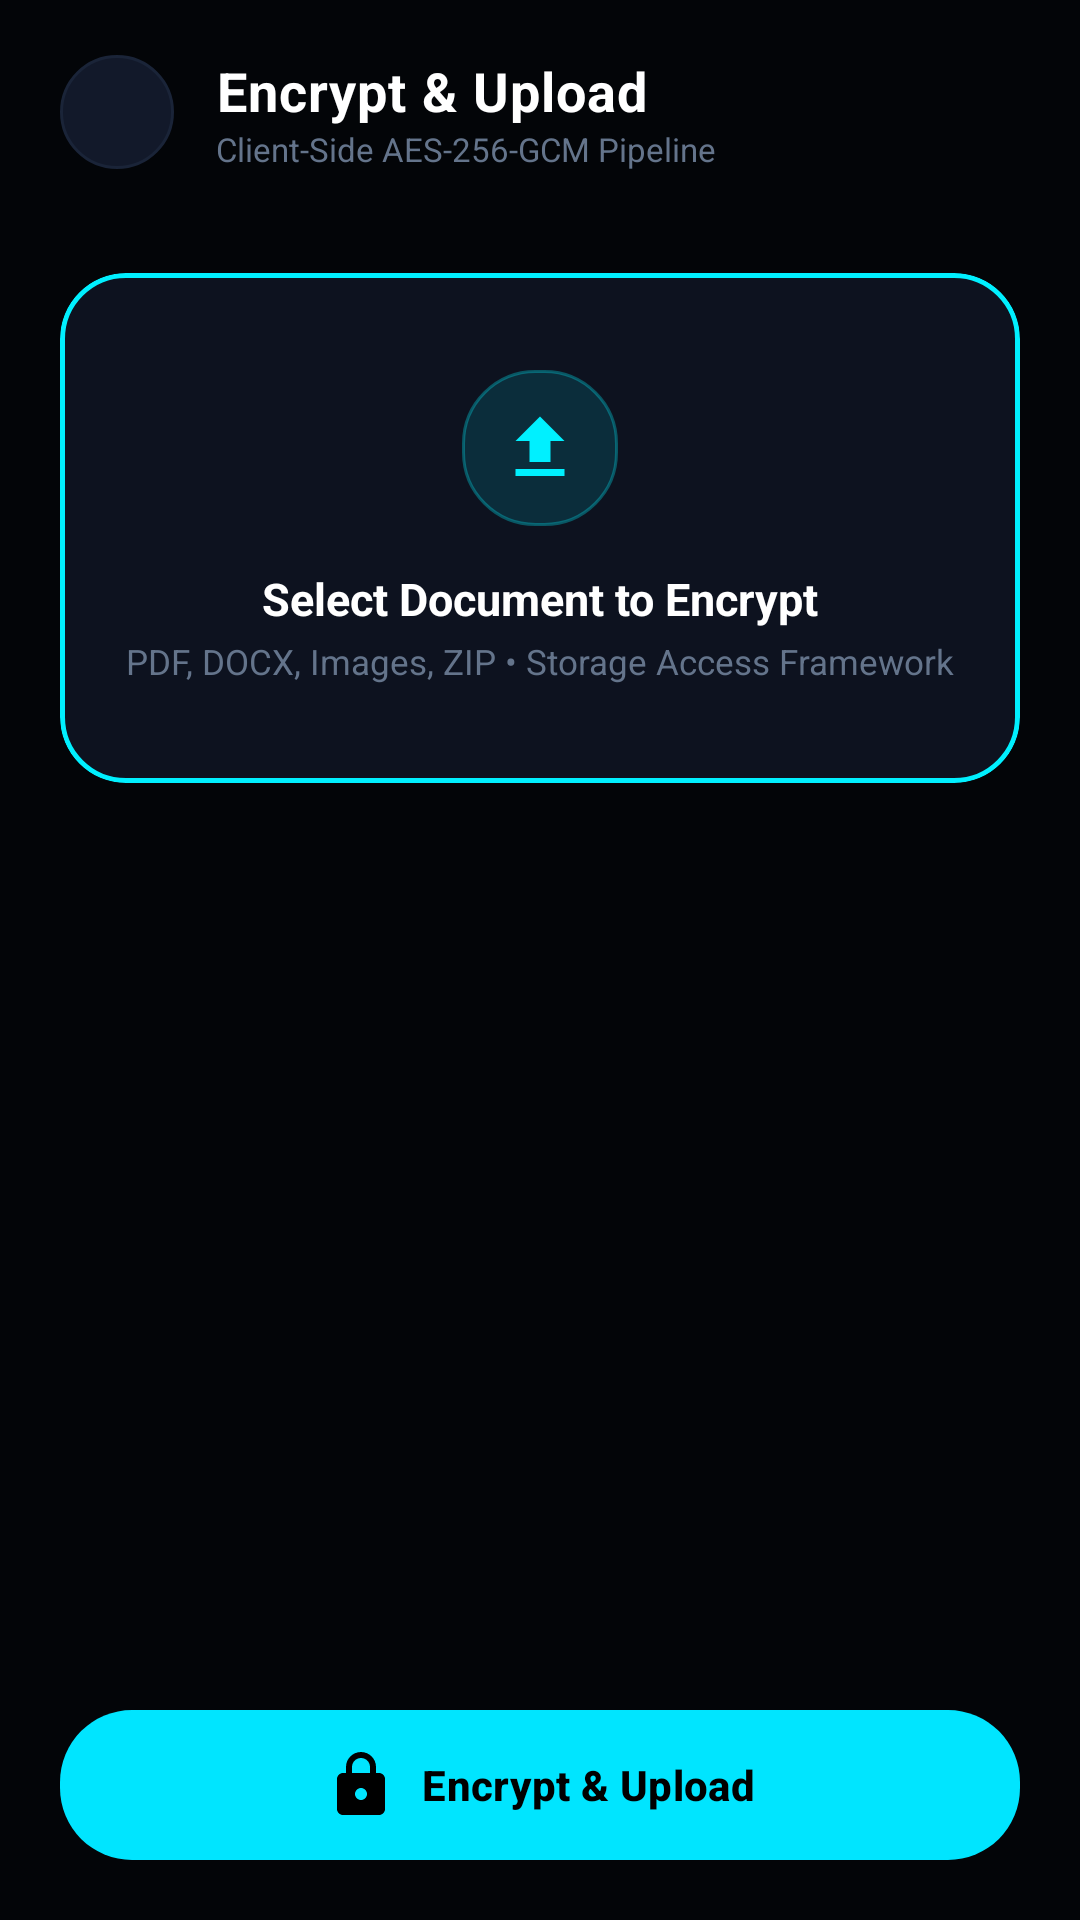

Screen size 1080*1920. Icon name, then its box in pixels as (x1, y1, x2, y2):
upload: (462, 370, 618, 526)
